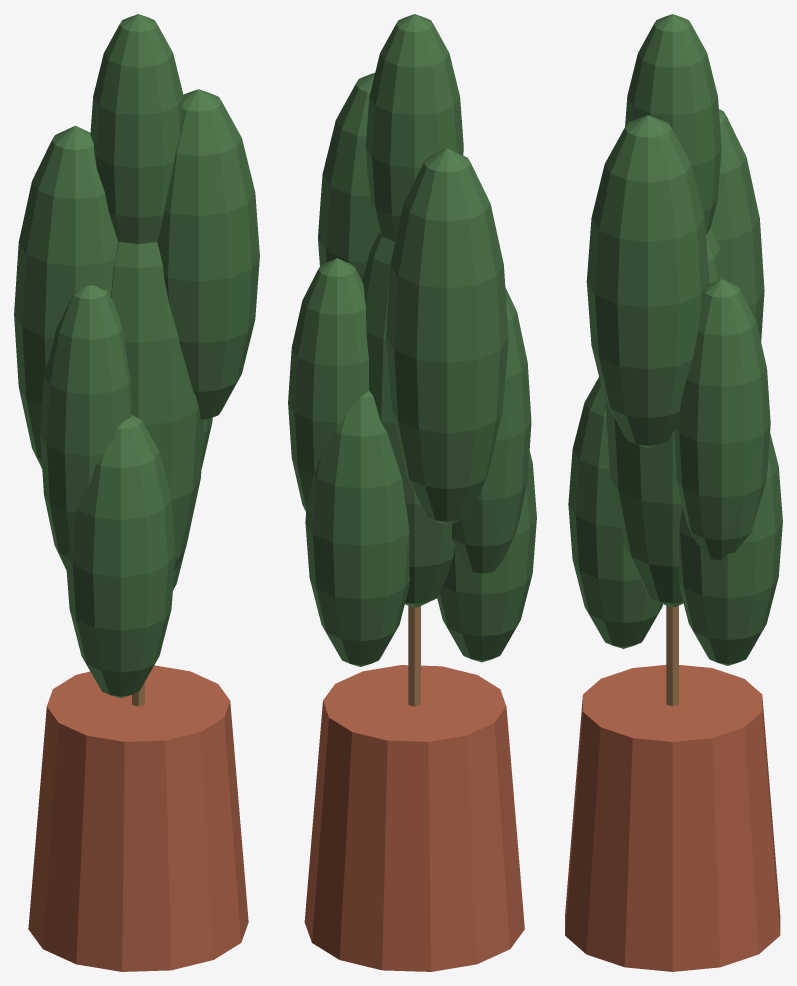
The model's file is planta_grande.obj.
The picture shows the model from 3 angles, left to right: view 1: azimuth 30°, elevation 25°; view 2: azimuth 150°, elevation 25°; view 3: azimuth 270°, elevation 25°; orthographic projection.
Parts seen in each view (by area): view 1: planta_grande; view 2: planta_grande; view 3: planta_grande.
Part boxes in pixels (box(x1,y1,x2,y2)): planta_grande: box(14, 14, 259, 971); planta_grande: box(288, 14, 536, 971); planta_grande: box(565, 14, 782, 971).
Bounding box in the file's own units: 38 × 164 × 35.54.
